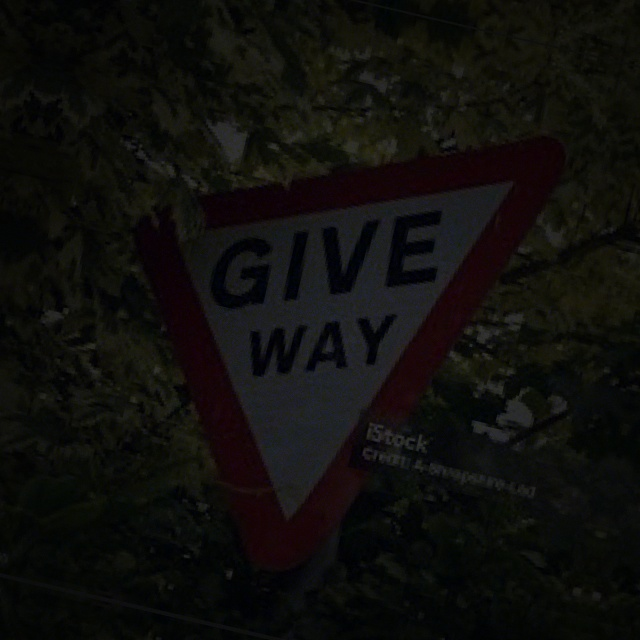Give_Way: (75, 64, 553, 591)
